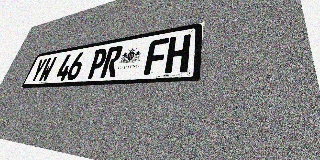4: (54, 53, 75, 81)
6: (65, 51, 87, 80)
F: (143, 38, 169, 75)
H: (164, 34, 191, 74)
P: (86, 48, 109, 79)
R: (100, 45, 124, 78)
W: (37, 56, 57, 82)
Y: (29, 58, 48, 83)
